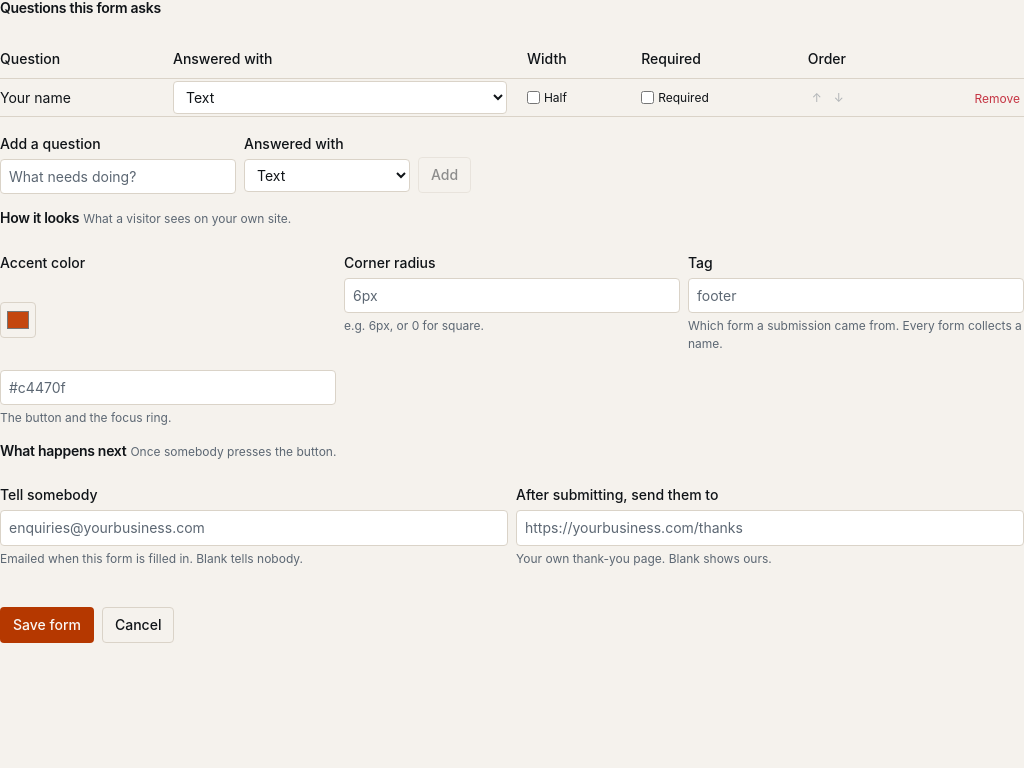
Test: Cancel asks before throwing work away, and only when there is work
This screenshot has width=1024, height=768.
What coordinates should you click on to do the following:
click the checkbox labelled "Half"
I would click on:
 (534, 98)
Its box is [527, 91, 540, 104].
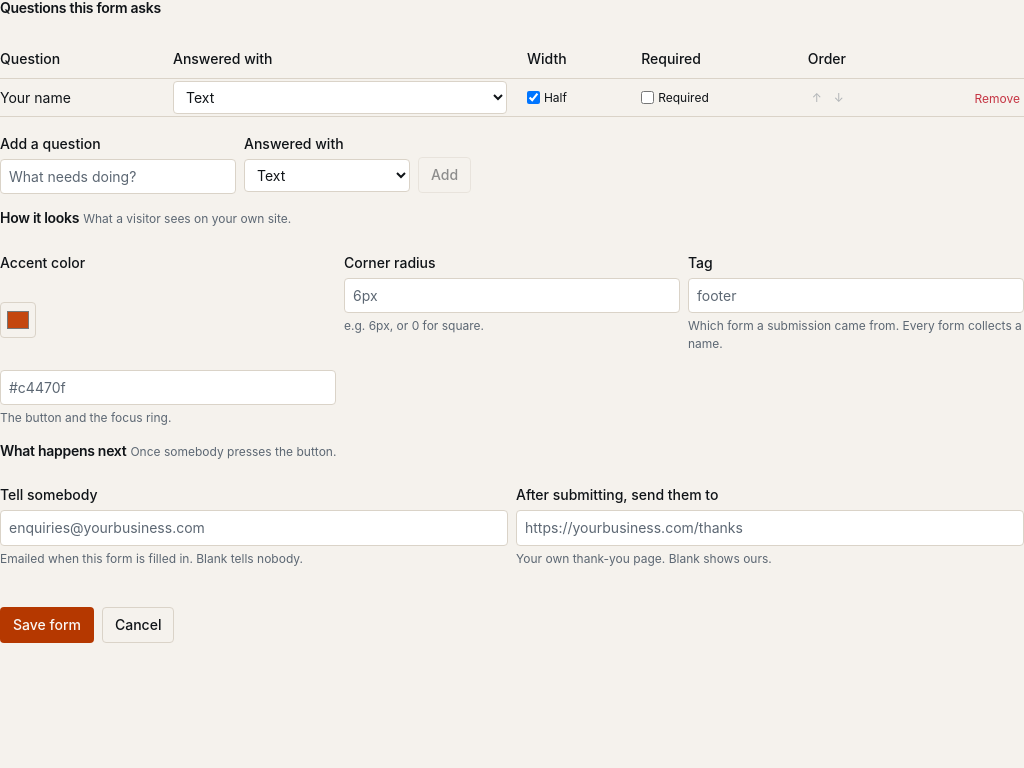
What coordinates should you click on to do the following:
click the button "Cancel"
I would click on:
 (138, 625)
Its box is [102, 607, 174, 643].
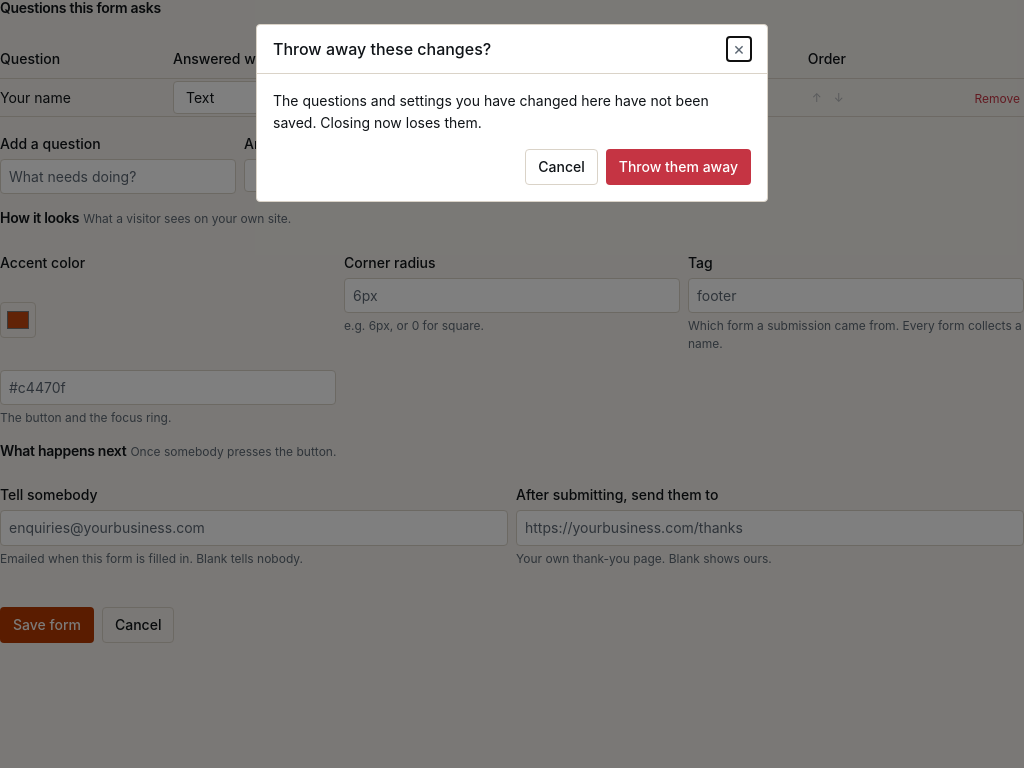
Check: the text "Throw away these changes?" is shown, box [273, 37, 491, 61]
